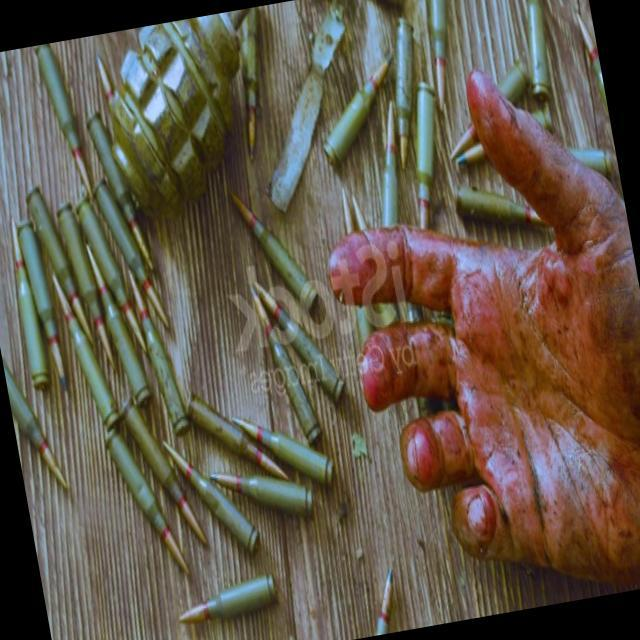grenade: (91, 19, 260, 213)
